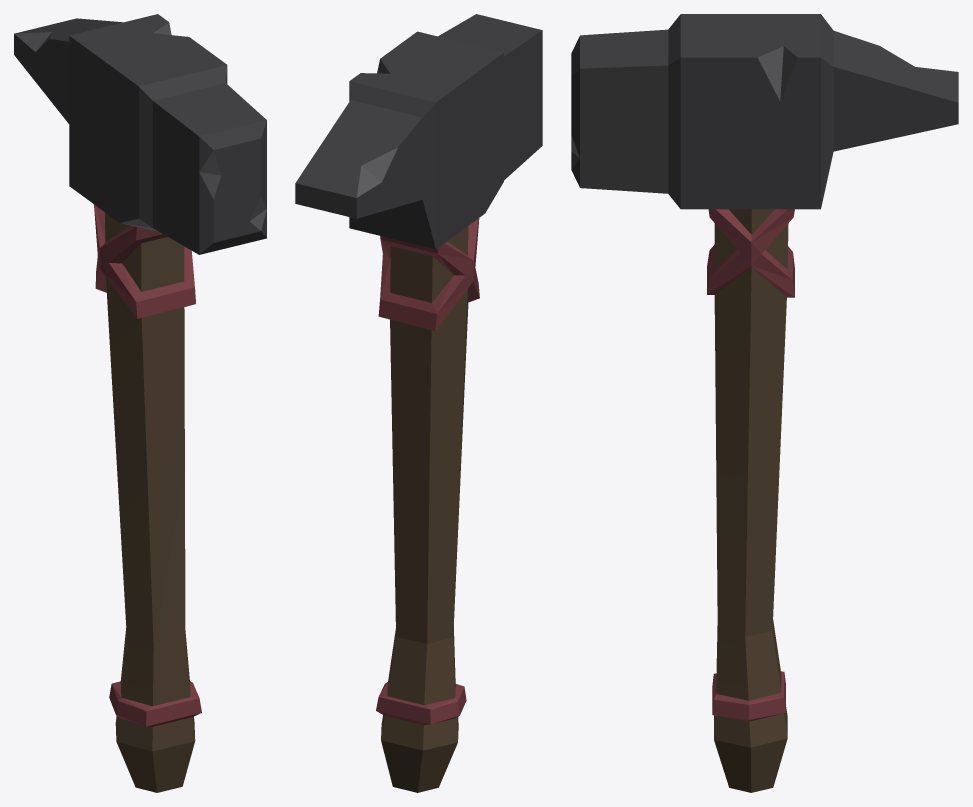
The model's file is Martillo_03.glb.
The picture shows the model from 3 angles, left to right: view 1: azimuth 30°, elevation 25°; view 2: azimuth 150°, elevation 25°; view 3: azimuth 270°, elevation 25°; orthographic projection. The views are drawn at different scales.
Visible parts, largest first — view 1: SM_Wep_Hammer_02; view 2: SM_Wep_Hammer_02; view 3: SM_Wep_Hammer_02.
Boxes of the visible parts, left/top/right/bottom form: SM_Wep_Hammer_02: left=14, top=14, right=266, bottom=792; SM_Wep_Hammer_02: left=295, top=14, right=542, bottom=792; SM_Wep_Hammer_02: left=571, top=14, right=958, bottom=792.
Bounding box in the file's own units: 0.1005 × 0.7463 × 0.3537.
1 material, 1 textured.
